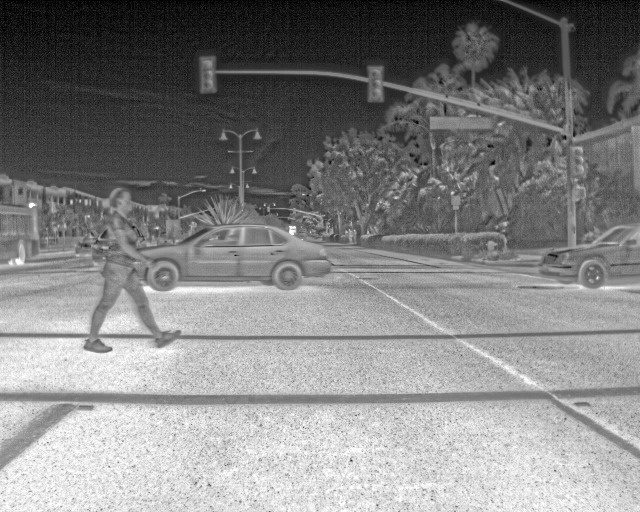vehicle: (129, 223, 332, 293), (541, 224, 640, 284)
